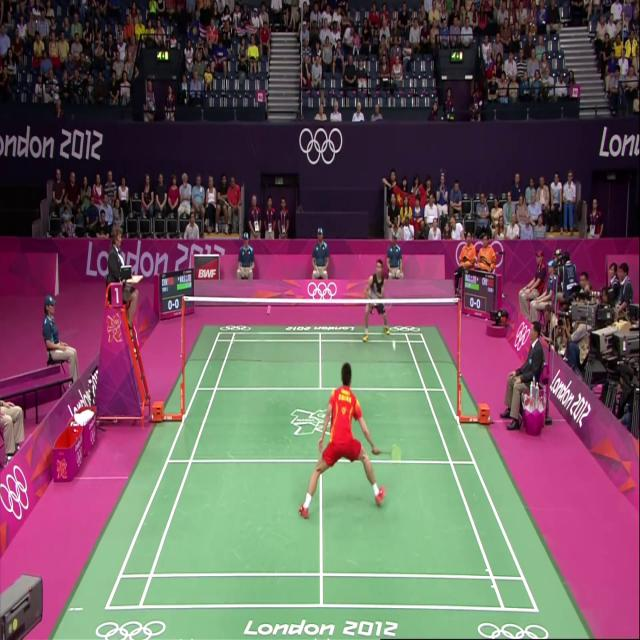Net: (180, 294, 461, 369)
Player1: (298, 329, 388, 522)
Player2: (358, 241, 394, 355)
Shuttlecock: (389, 335, 400, 351)
